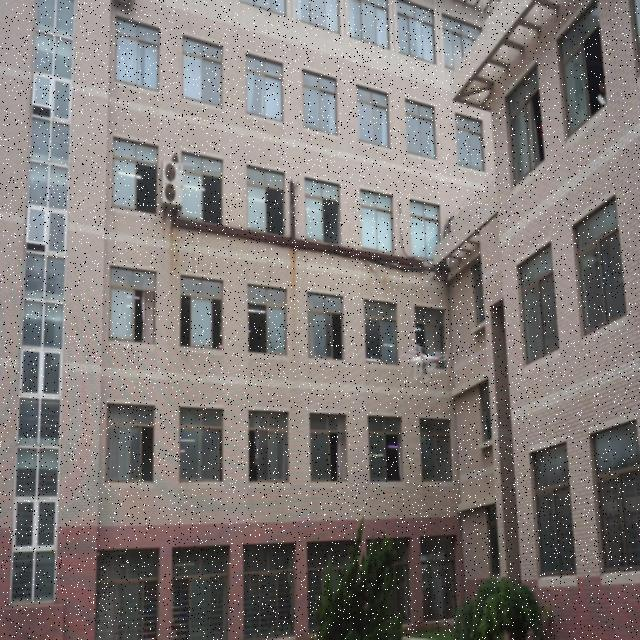UAV: (400, 344, 447, 383)
